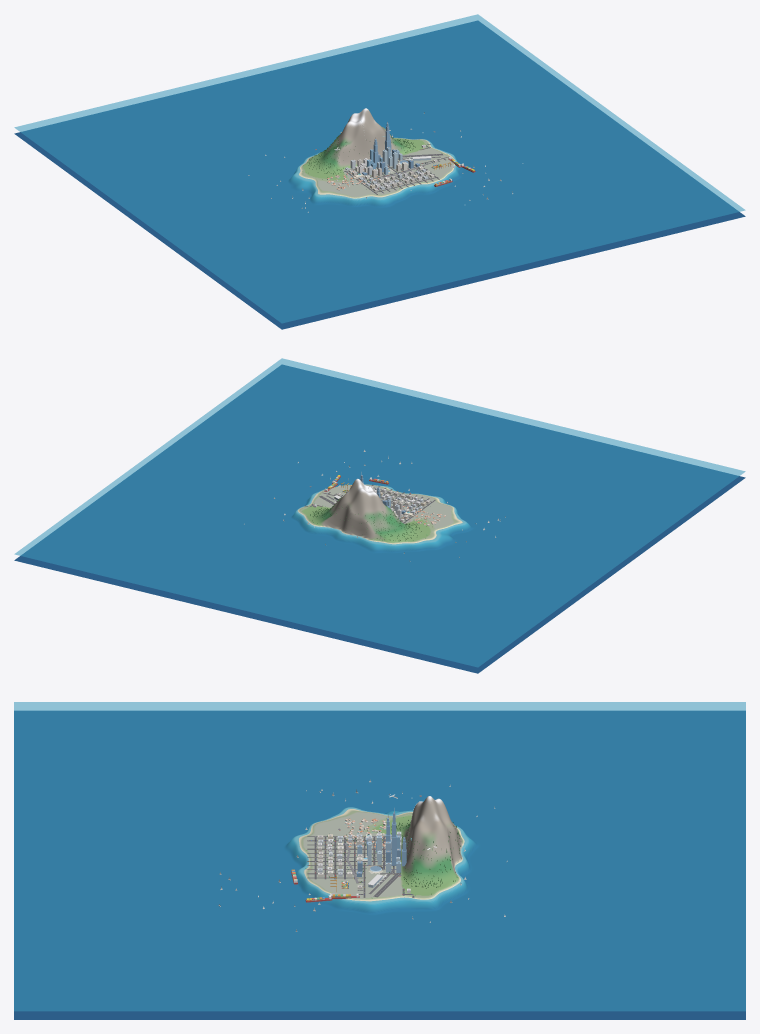
The model's file is Namodaj_beta.glb.
3 renders of one model, top to bottom at view 1: azimuth 30°, elevation 25°; view 2: azimuth 150°, elevation 25°; view 3: azimuth 270°, elevation 25°, orthographic. The views are drawn at different scales.
Visible parts, largest first — view 1: SovereignIsland; view 2: SovereignIsland; view 3: SovereignIsland.
Boxes of the visible parts, left/top/right/bottom form: SovereignIsland: left=14, top=14, right=745, bottom=329; SovereignIsland: left=14, top=358, right=745, bottom=673; SovereignIsland: left=14, top=702, right=745, bottom=1019.
Size of the model in its own units: 3600 by 389 by 3600.
